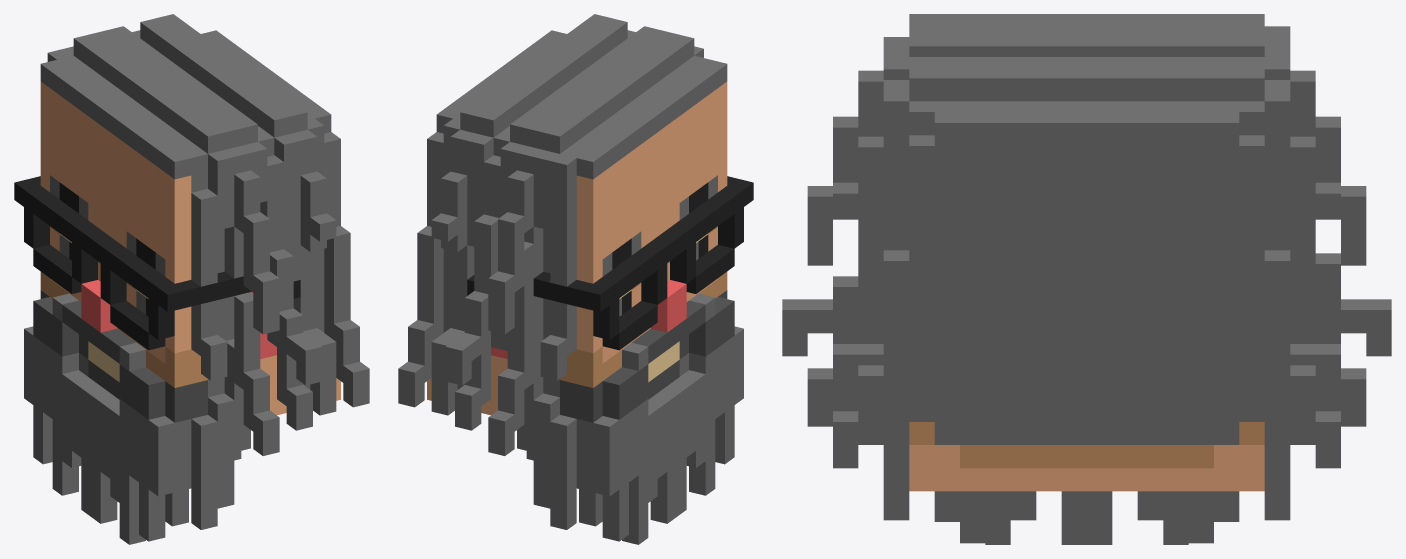
File: Voxel Universe-9-Face.obj
3 renders of one model, left to right at view 1: azimuth 30°, elevation 25°; view 2: azimuth 150°, elevation 25°; view 3: azimuth 270°, elevation 25°, orthographic. The views are drawn at different scales.
Parts seen in each view (by area): view 1: Face; view 2: Face; view 3: Face.
Part boxes in pixels (x1,y1,x2,y2): Face: (14,14,369,544); Face: (398,14,753,544); Face: (782,14,1391,544).
Bounding box in the file's own units: 1.1 × 2.4 × 2.4.
Materials: 1 (1 with a texture image).
